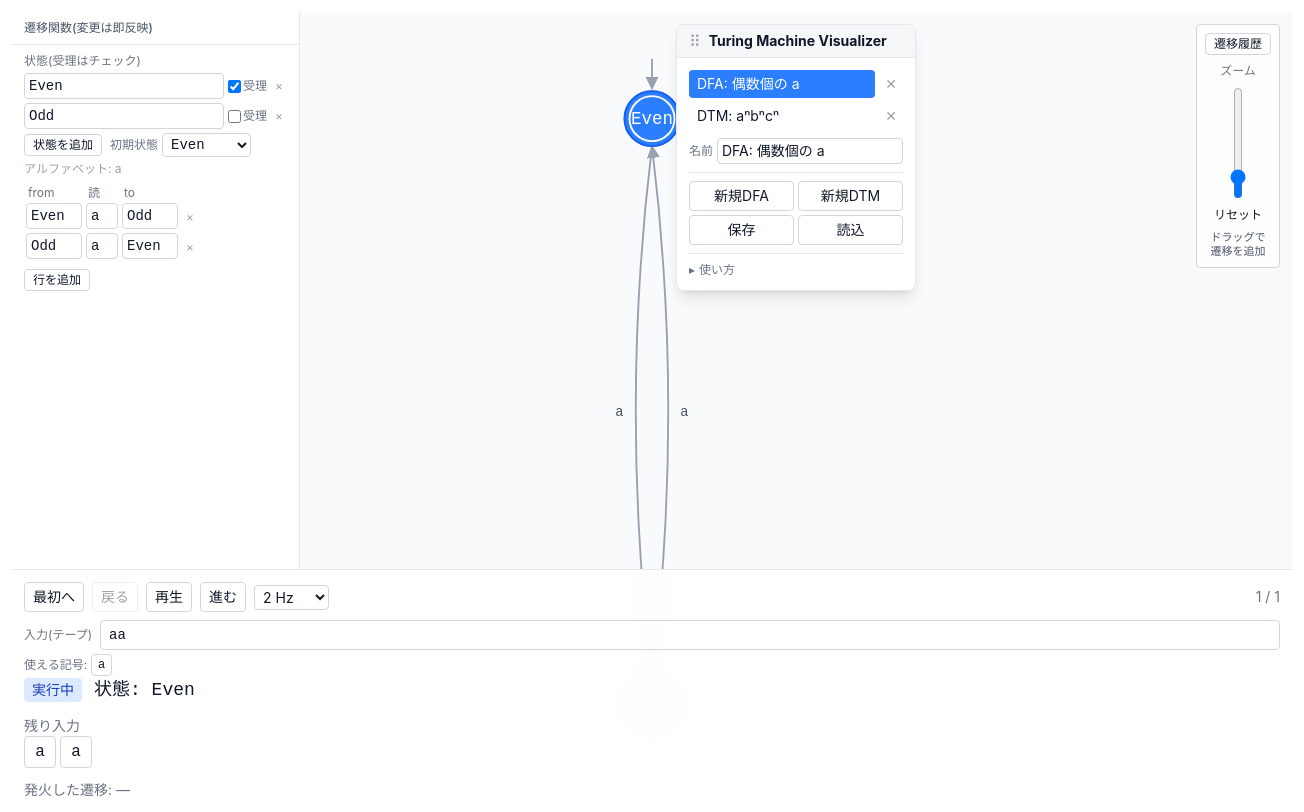
it: App(再生 UI) › DTM では tapeAlphabet の記号を表示し、末尾へ追記する
Step 1. Click the button "DTM: aⁿbⁿcⁿ" → (782, 116), box [689, 102, 875, 130]
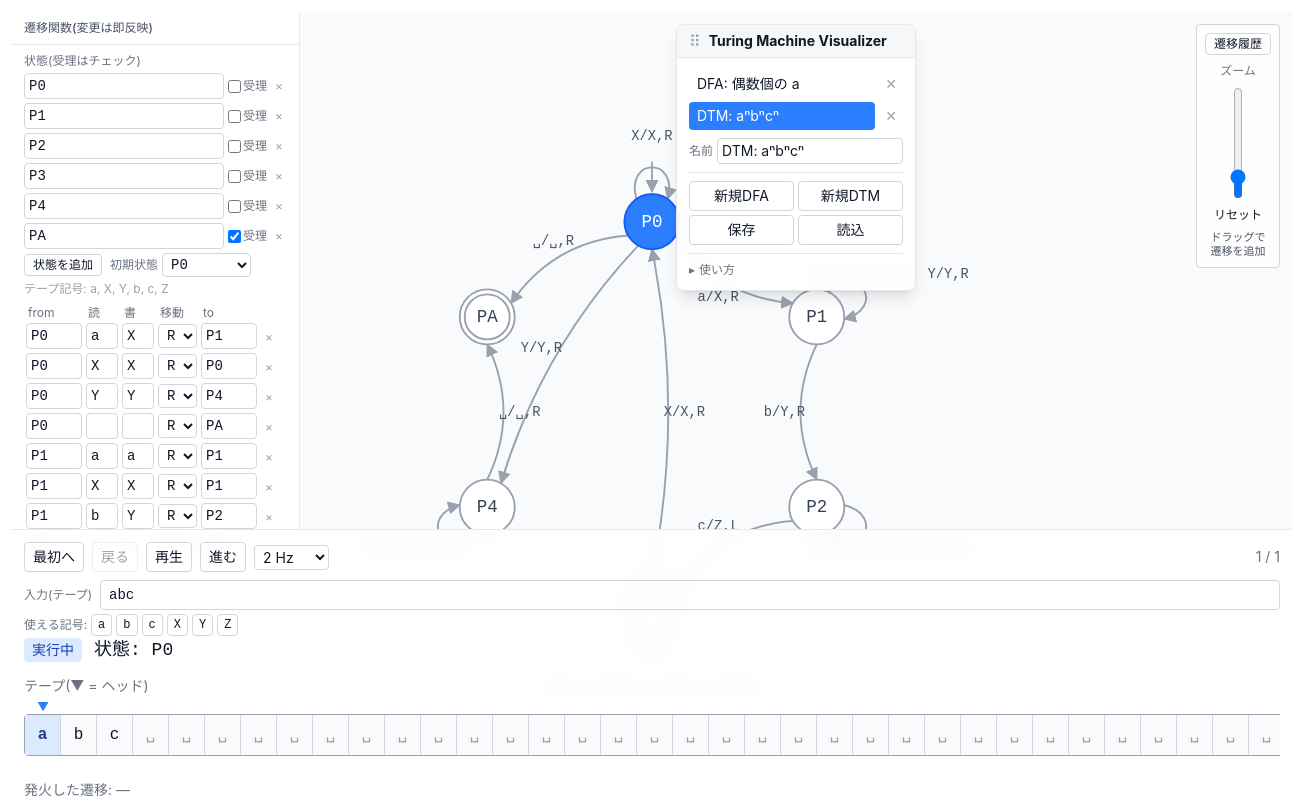
Expected: the button named "記号 b を追加" is shown, [116, 614, 138, 636]
Expected: the button named "記号 X を追加" is shown
Expected: the field labelled "入力(テープ)" holds "abc", [100, 580, 1280, 610]
Step 2. Click the button named "記号 X を追加" → (177, 625), box [167, 614, 188, 636]
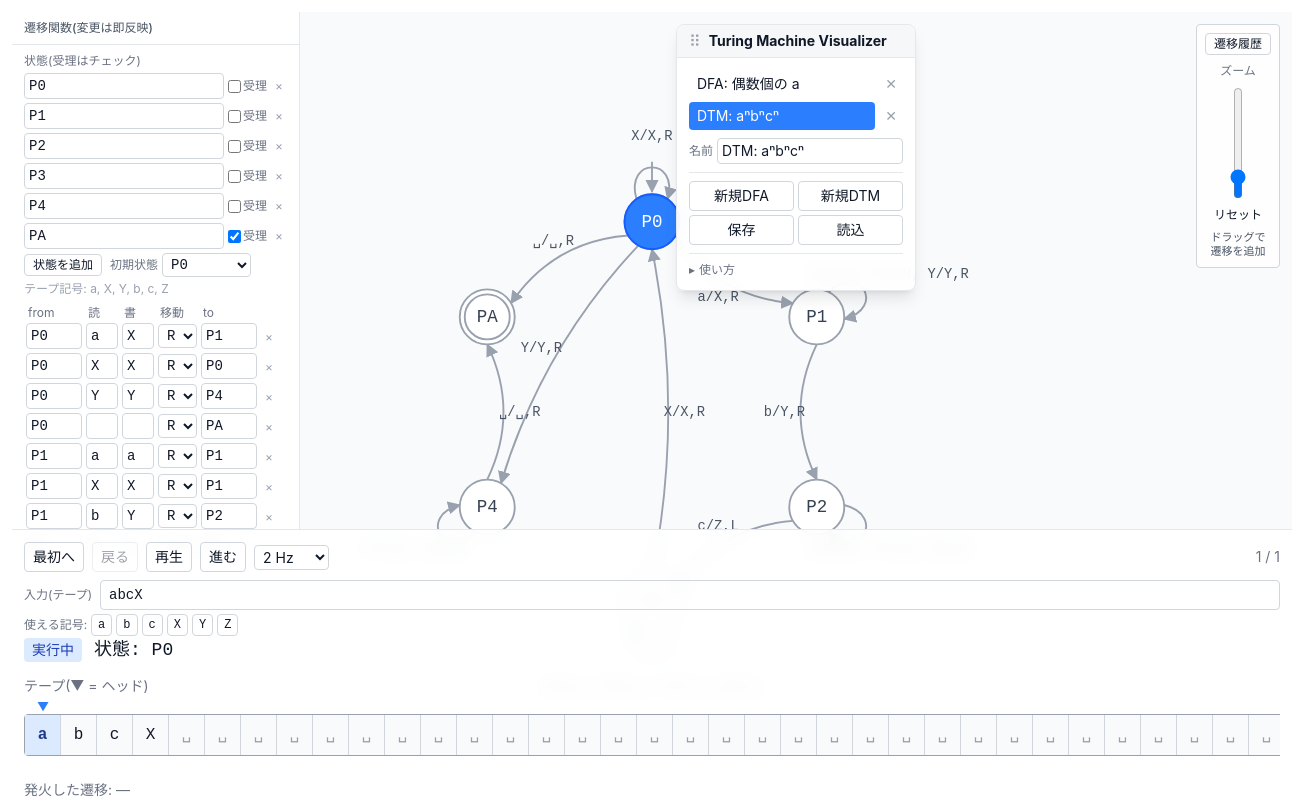
Expected: the field labelled "入力(テープ)" holds "abcX", [100, 580, 1280, 610]
